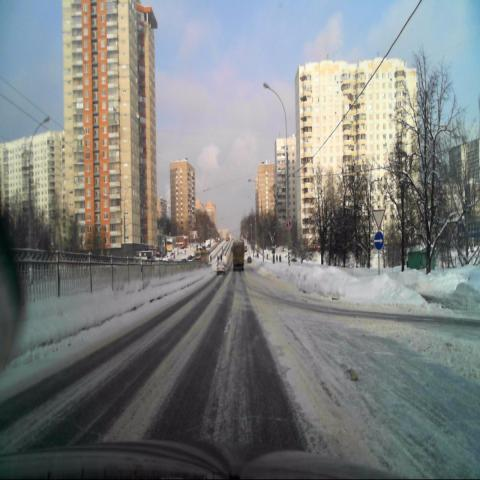4_1_2_1: (374, 232, 384, 252)
